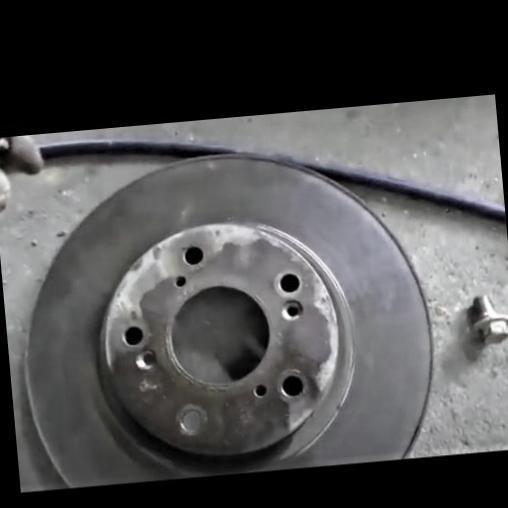hole: (280, 373, 303, 400), (133, 349, 158, 373), (278, 298, 303, 322), (180, 409, 204, 434), (121, 325, 145, 349), (276, 272, 300, 295), (181, 246, 204, 268), (172, 275, 186, 290), (254, 384, 268, 398)
